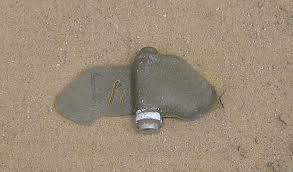butterfly: (46, 41, 229, 138)
